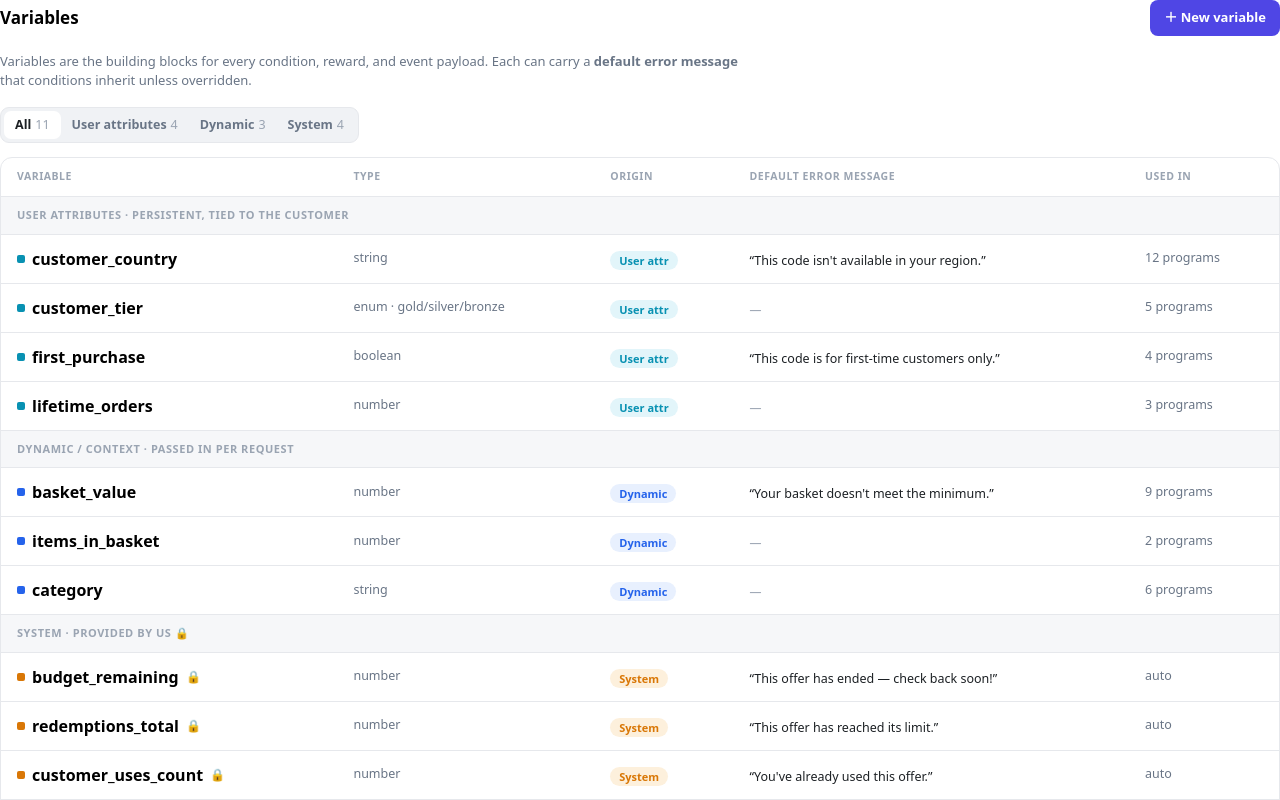
it: clicking a system variable row opens the panel in view (read-only) mode
# Click the budget_remaining row
Click the text "budget_remaining" at (109, 676), box [17,666,201,688]
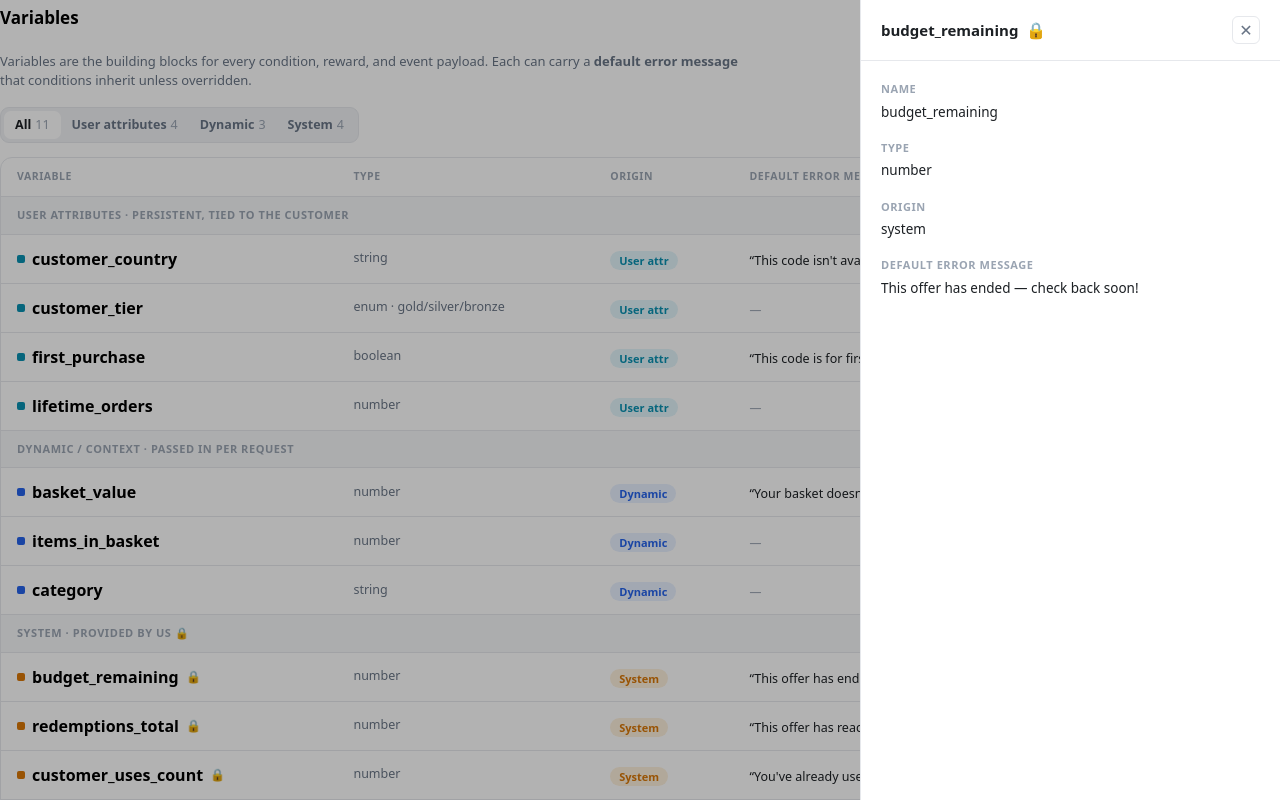
Expected: the text "🔒" below "System · provided by us 🔒" is shown, [186,668,201,684]
Expected: the dialog is shown, [860,0,1279,799]
